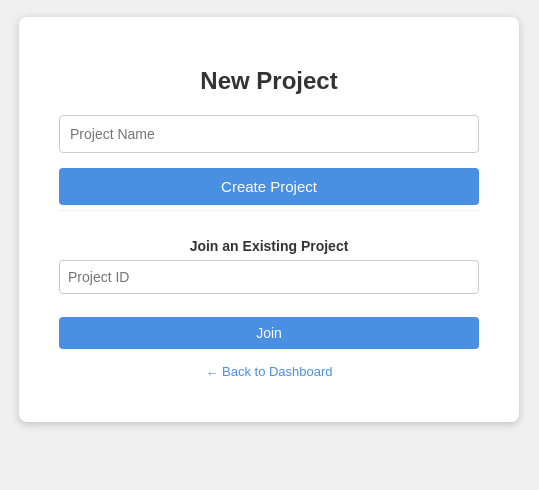
Test case: NewProject Component › handles request failures for loading, creating, and joining
In the field with placeholder "Project Name": point(269, 134) [59,115,479,153], type "Gamma"
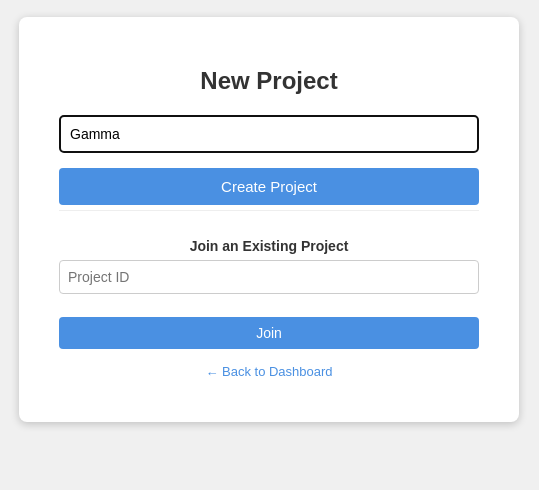
Click the button "Create Project": point(269, 186) [59,168,479,205]
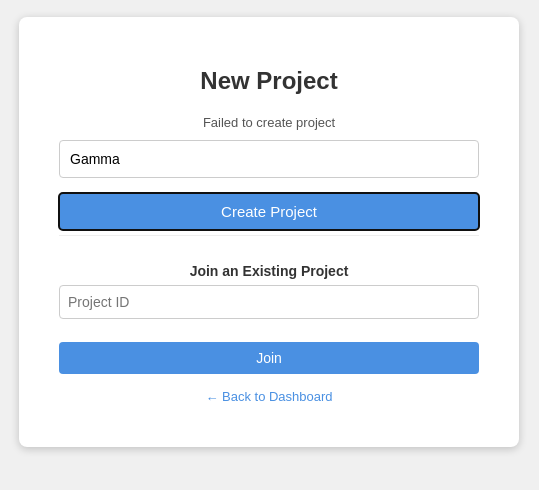
expect the text "Failed to create project" is shown: met, box [203,115,335,130]
In the field with placeholder "Project ID": point(269, 302) [59,285,479,319], type "proj_1"
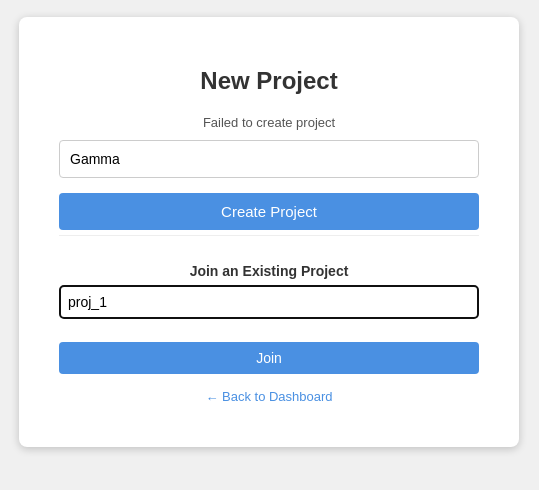
Click the button "Join": point(269, 358) [59,342,479,374]
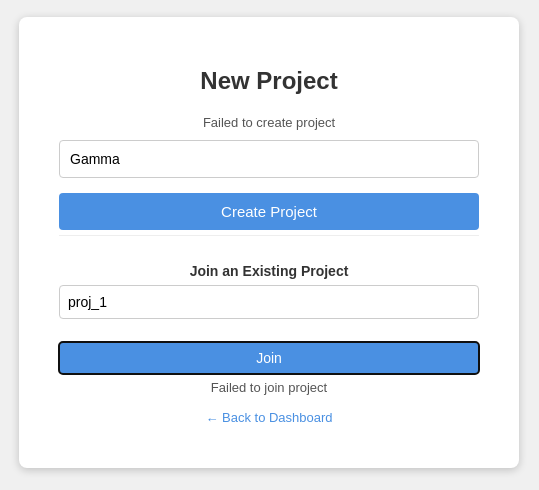
expect the text "Failed to join project" is shown: met, box [211,380,327,395]
